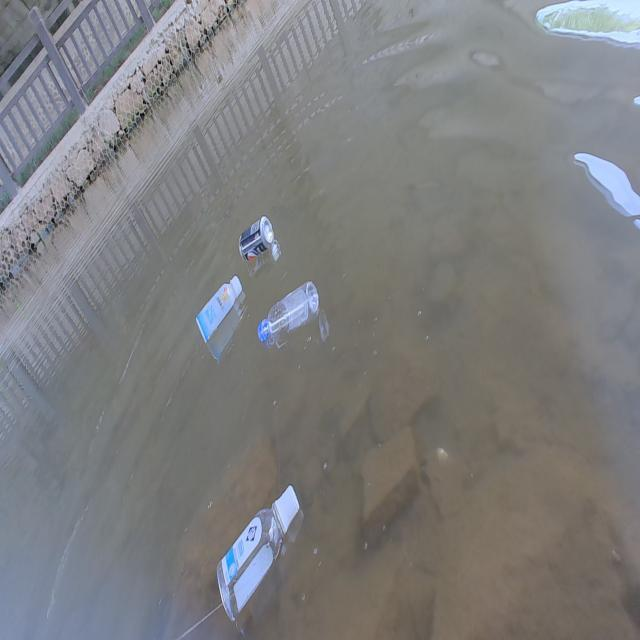garbage: (216, 483, 304, 623), (257, 280, 319, 344), (195, 274, 245, 344), (238, 215, 282, 263)
